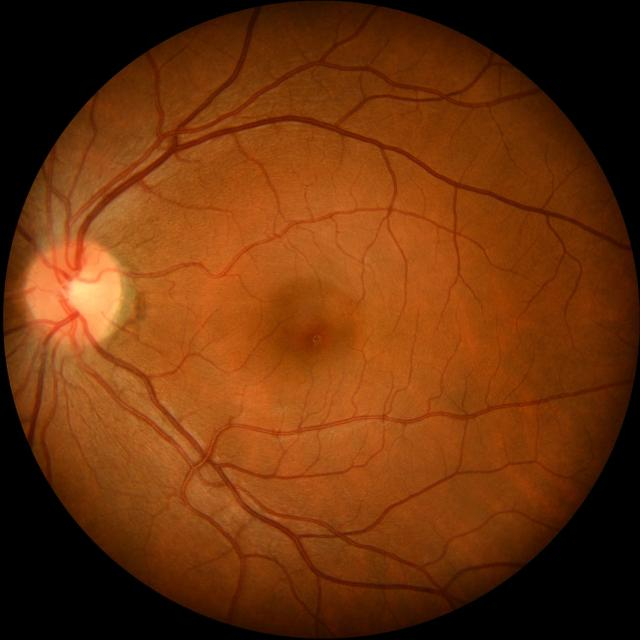OC: (64, 271, 107, 317)
OD: (25, 239, 123, 344)
